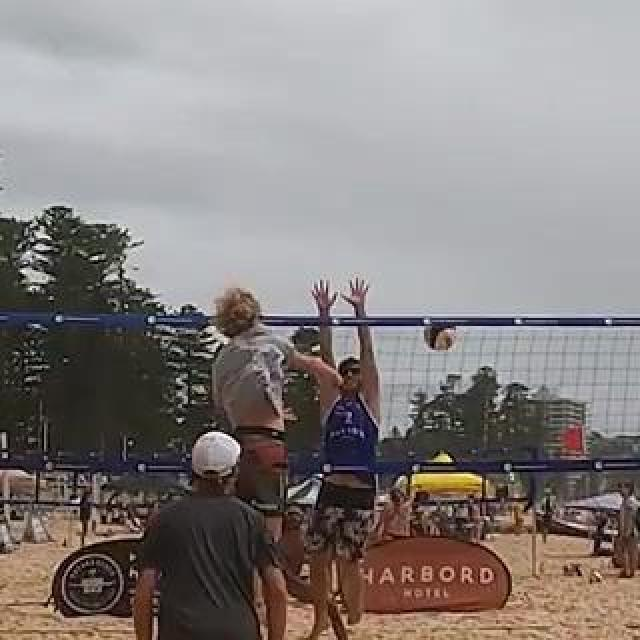volleyball: (424, 323, 456, 351)
